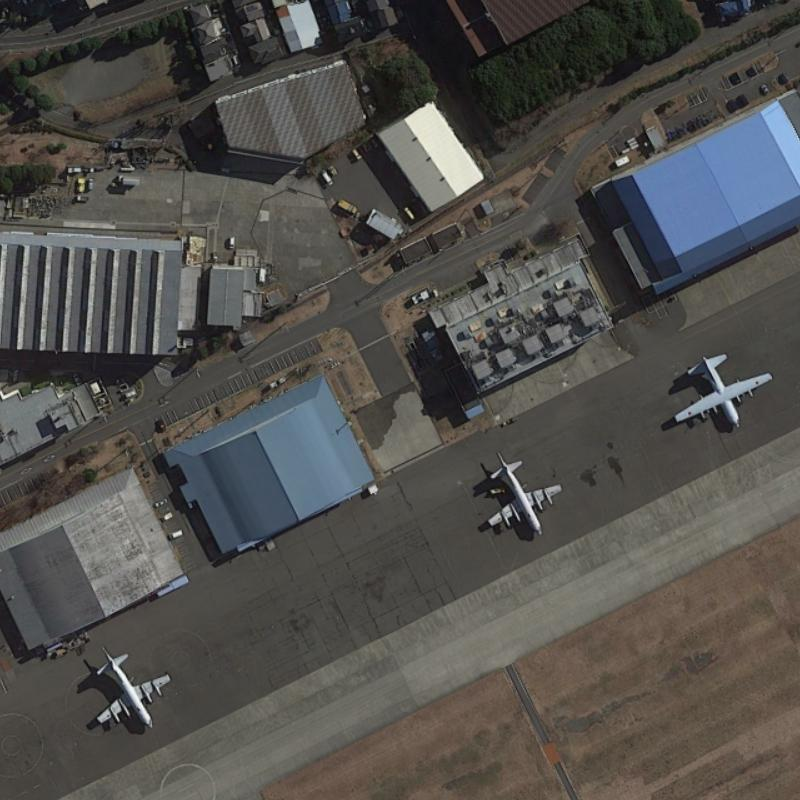A2: (657, 343, 775, 442)
A9: (477, 443, 567, 538), (83, 645, 173, 729)
